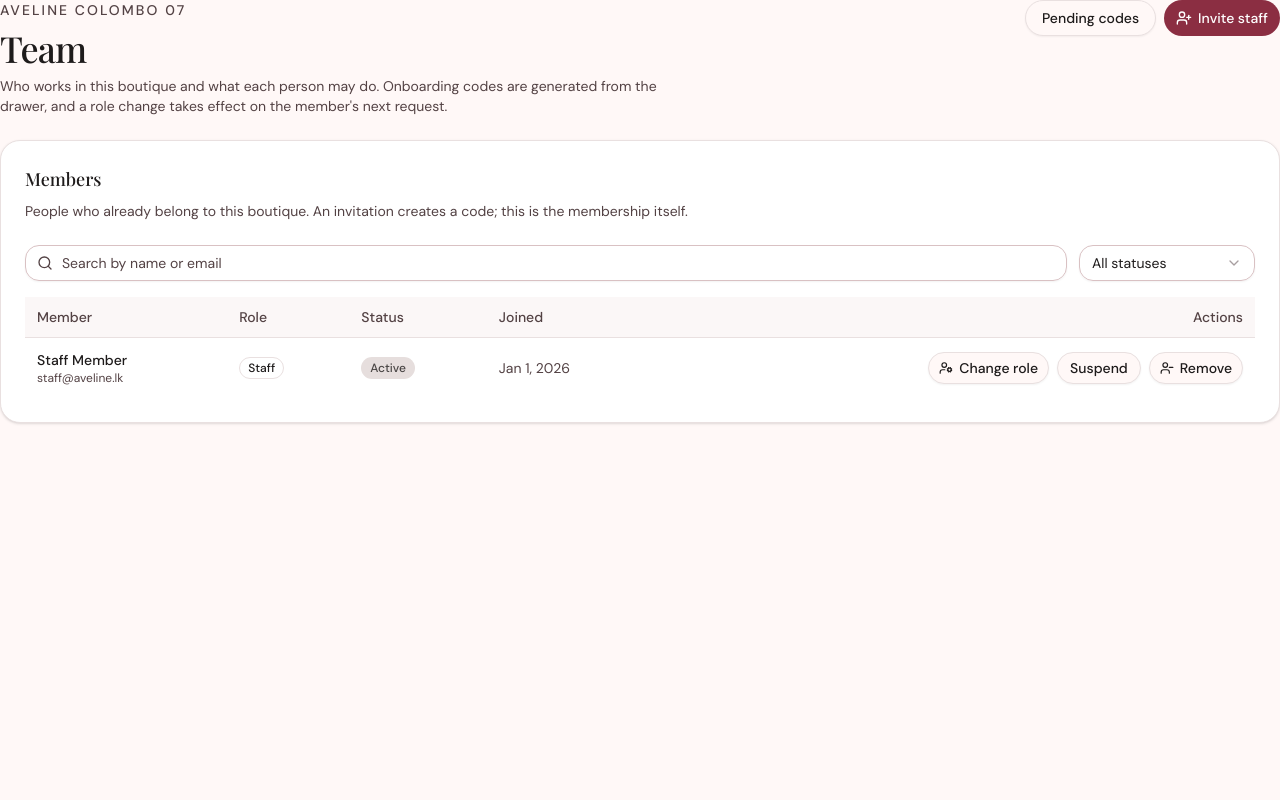
Test: TeamManagement › opens the drawer straight on the pending codes when that button is used
Expected: the text "Staff Member" is shown, [37,350,127,368]
Step 1. Click the button "Pending codes" → (1091, 18), box [1025,0,1156,36]
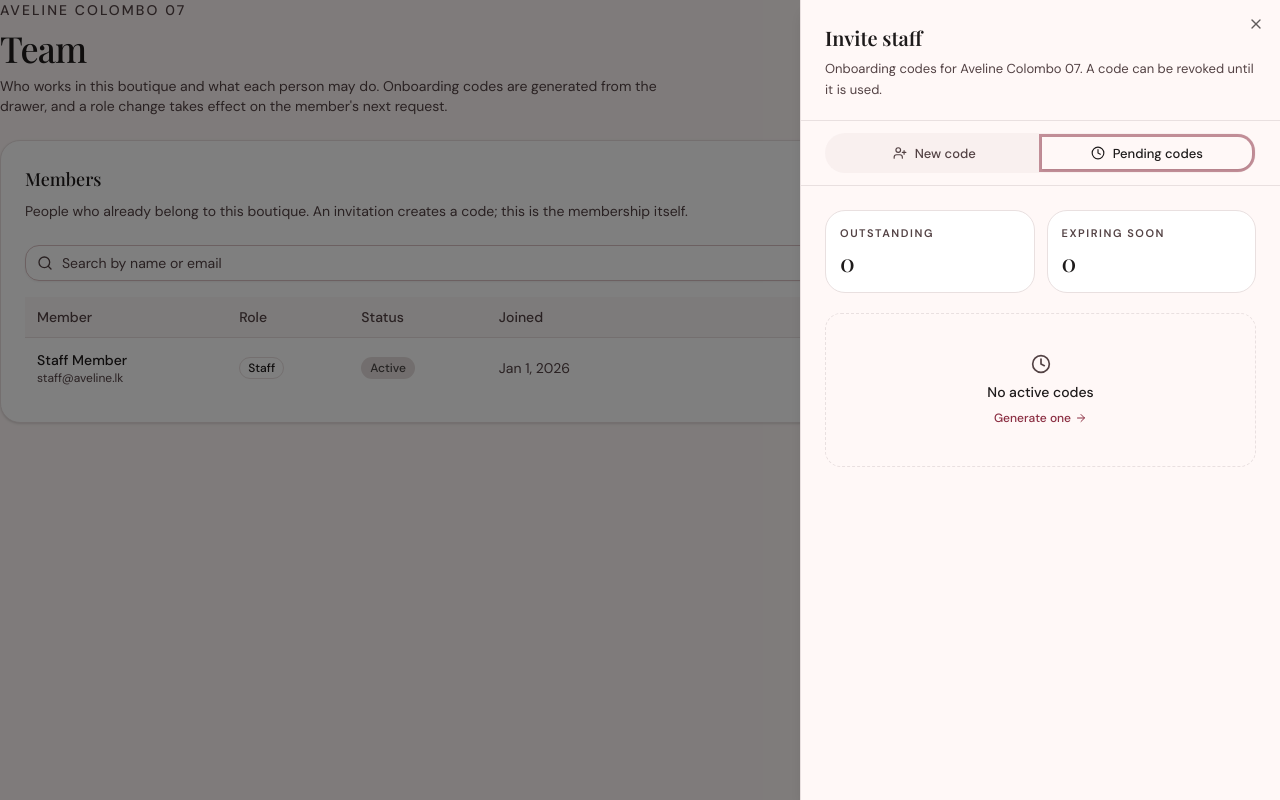
Now the text "No active codes" is shown, box [987,382,1094,402]
